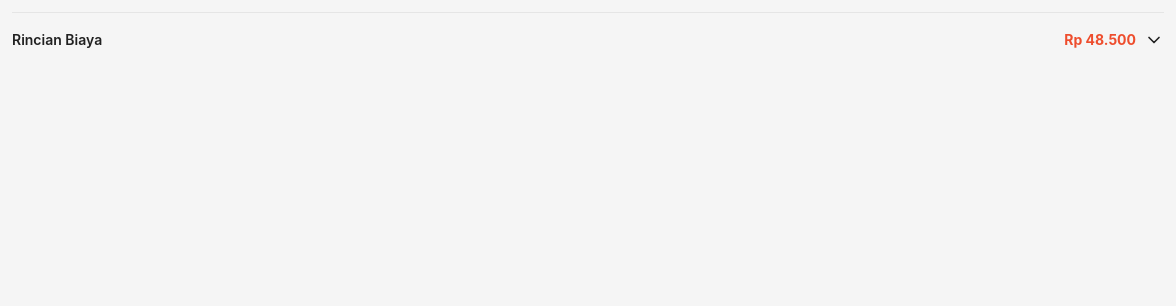
Test: PriceBreakdown › AC-002: expands and collapses with an accessible expandable row
Expected: the text "Harga produk" is not shown
Click the button "Rincian Biaya Rp 48.500". click: [57, 40]
box: [12, 13, 1164, 66]
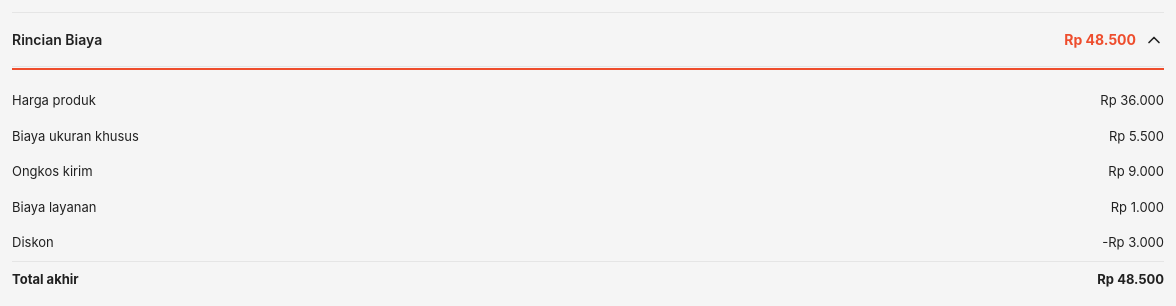
Expected: the button "Rincian Biaya Rp 48.500" is expanded
Expected: the text "Harga produk" is shown, [12, 91, 96, 110]
Expected: the text "Biaya layanan" is shown, [12, 198, 96, 217]
Click the button "Rincian Biaya Rp 48.500". click: [57, 40]
box: [12, 13, 1164, 66]
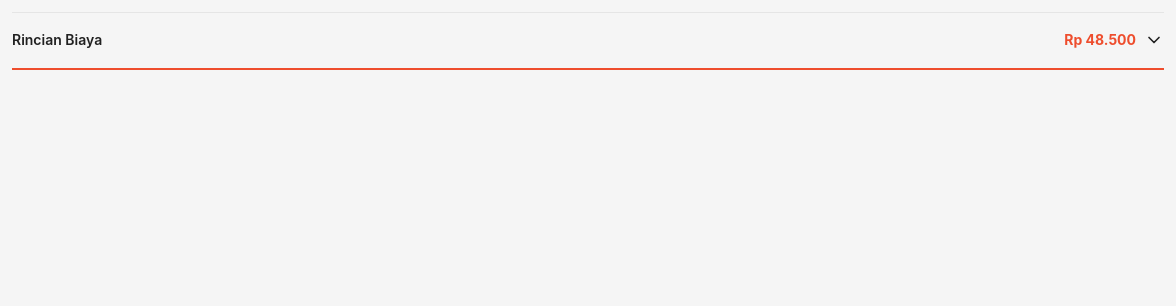
Expected: the text "Harga produk" is gone
